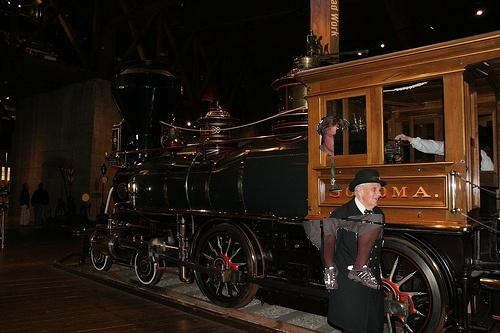tampered: (303, 116, 389, 289)
